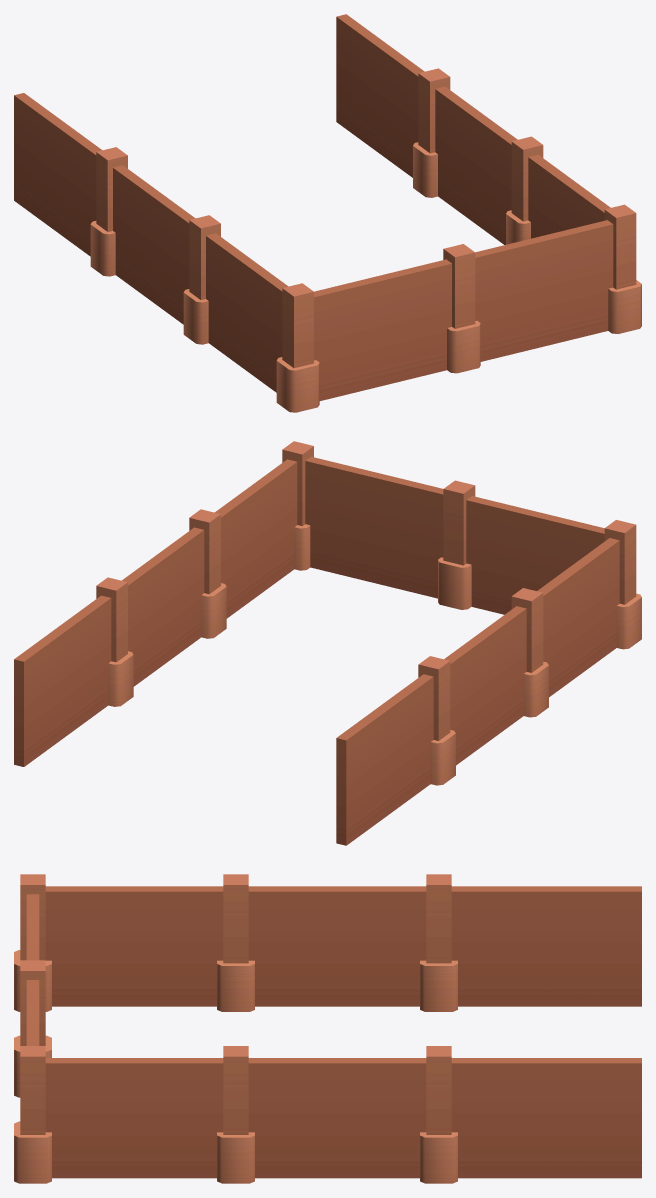
Rendered from fence-3x2.glb.
3 views of the same model, one above another, from view 1: azimuth 30°, elevation 25°; view 2: azimuth 150°, elevation 25°; view 3: azimuth 270°, elevation 25° (orthographic). The views are drawn at different scales.
Parts seen in each view (by area): view 1: fence-3x2; view 2: fence-3x2; view 3: fence-3x2.
Boxes of the visible parts, box(x1,y1,x2,y2) form: fence-3x2: box(14, 14, 641, 412); fence-3x2: box(14, 441, 641, 845); fence-3x2: box(14, 874, 641, 1183).
Size of the model in its own units: 0.8751 by 0.27 by 1.24.
1 material, 1 textured.
